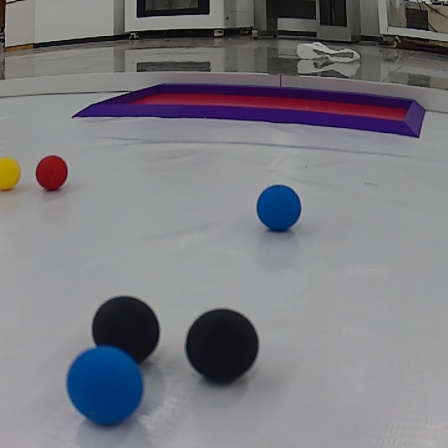black: (180, 308, 260, 384), (88, 296, 163, 358)
blue: (63, 348, 150, 425), (254, 185, 303, 231)
red: (35, 154, 68, 191)
red_aim: (75, 78, 428, 139)
yellow: (0, 155, 21, 191)
